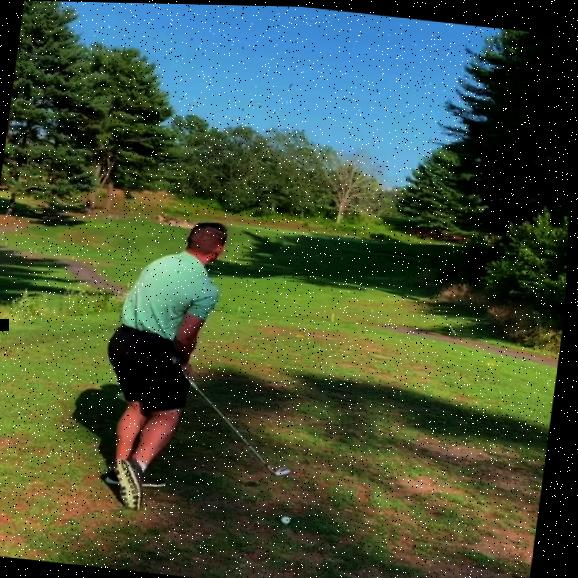ClubHead: (278, 465, 294, 476)
GolfBall: (285, 514, 297, 524)
